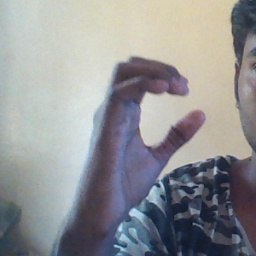C: (99, 49, 210, 171)
